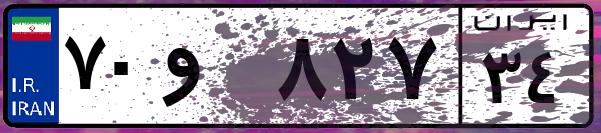0: (110, 28, 158, 98)
2: (330, 28, 385, 110)
3: (475, 38, 525, 113)
4: (525, 38, 570, 115)
7: (385, 28, 445, 110), (57, 26, 110, 100)
8: (270, 28, 330, 110)
و: (158, 20, 270, 120)
